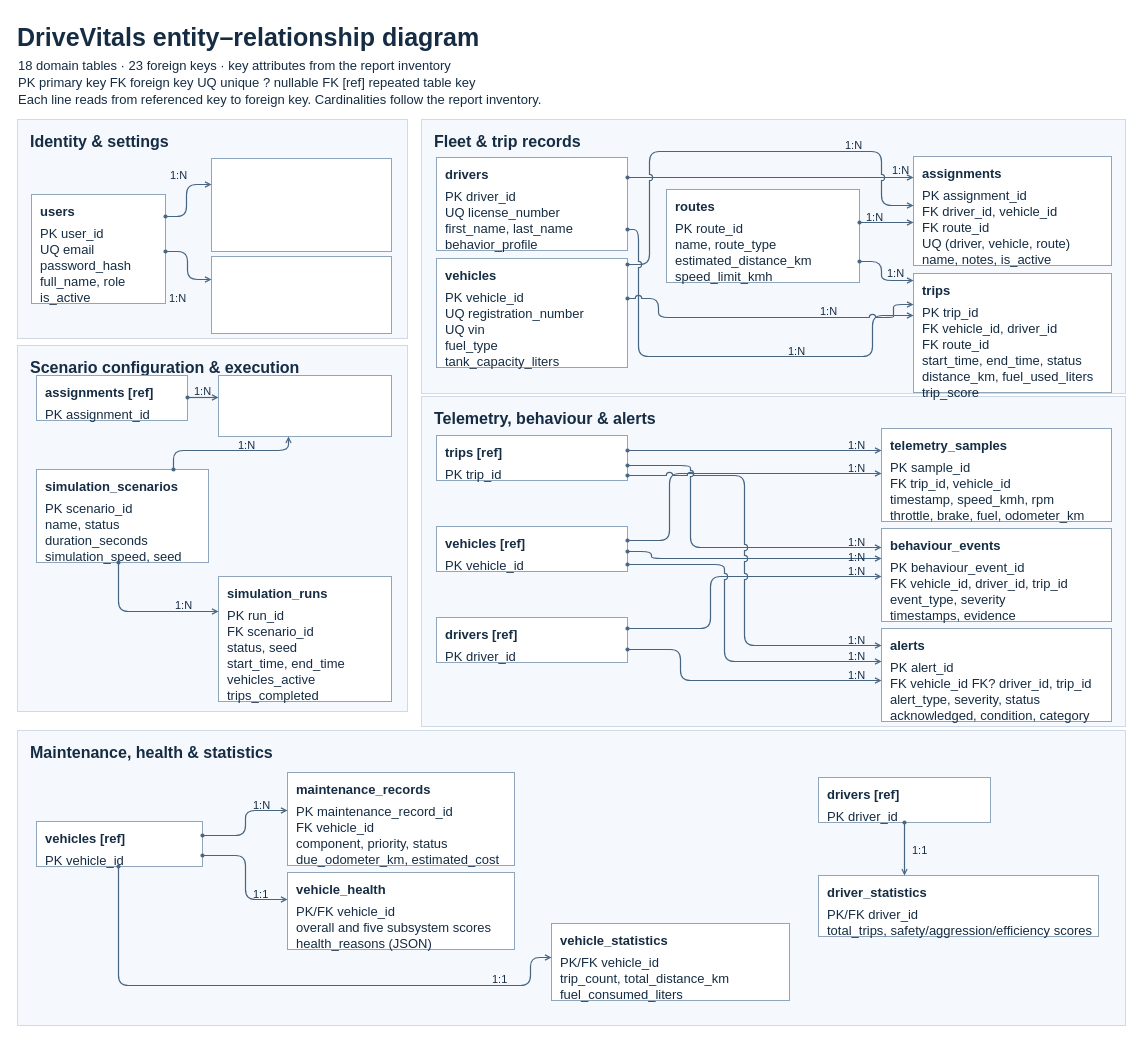
Image size: 1145x1043. Some labels were removed from this diagram. The shapes that lost their labels are listed below. From the top down, each one's box as (x1, y1, x2, y2) in pixels, then its label:
(210, 158, 392, 252): auth_sessions PK session_id FK user_id UQ token_hash expires_at, revoked_at
(210, 256, 392, 334): system_settings PK category FK? updated_by settings_data (JSON)
(218, 374, 392, 436): scenario_assignments PK/FK assignment_id PK/FK scenario_id
